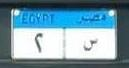2: (33, 32, 46, 54)
seen: (81, 37, 99, 53)
